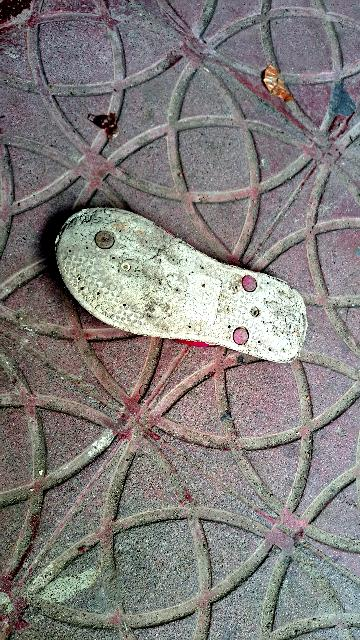sandal: (14, 182, 353, 424)
